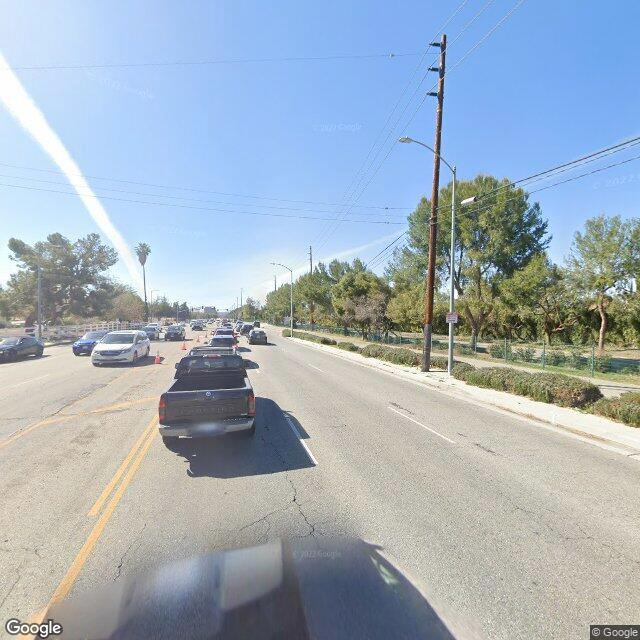crack: (229, 436, 324, 541)
pothole: (242, 432, 323, 538), (108, 517, 149, 580)
